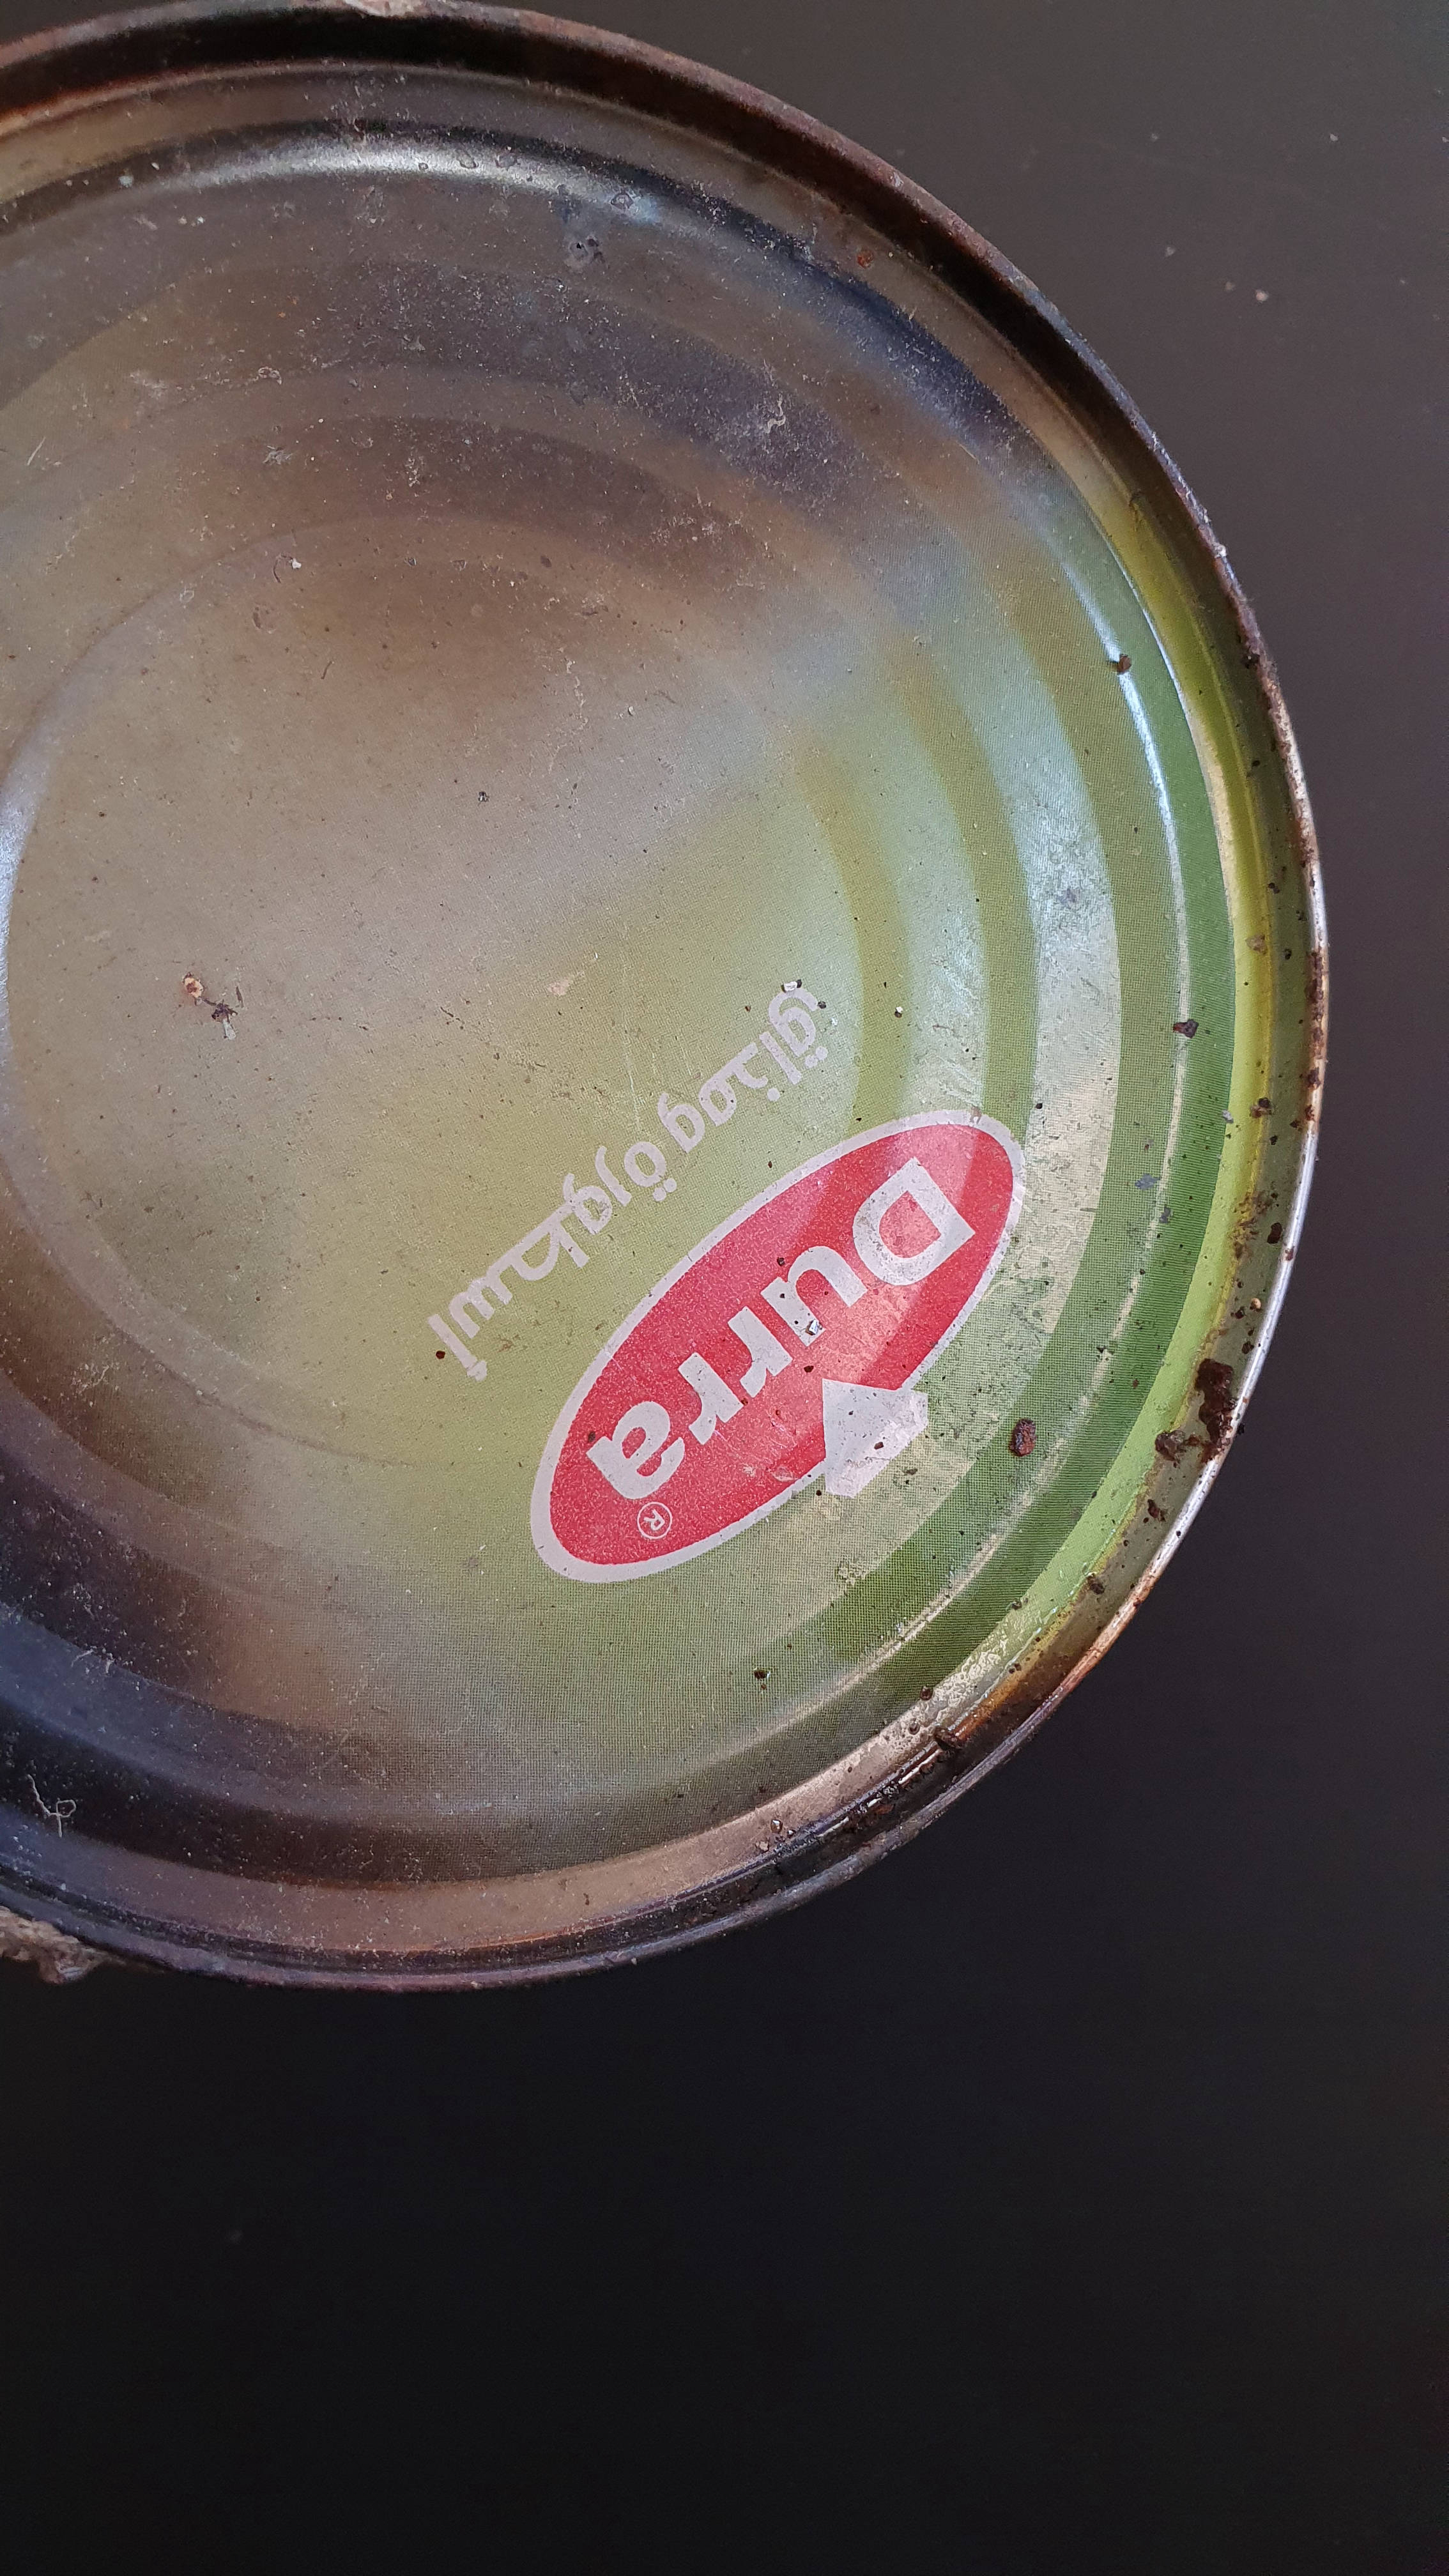metal: (0, 0, 1375, 2162)
